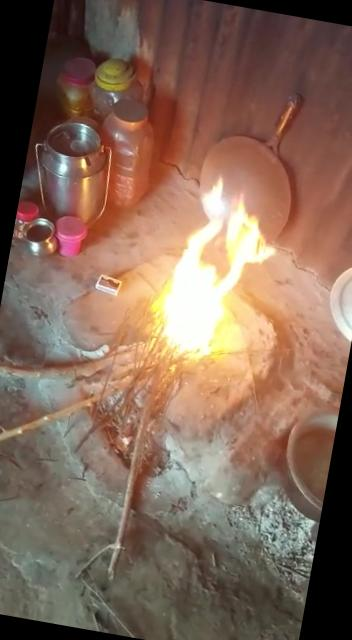Fire: (147, 168, 288, 370)
